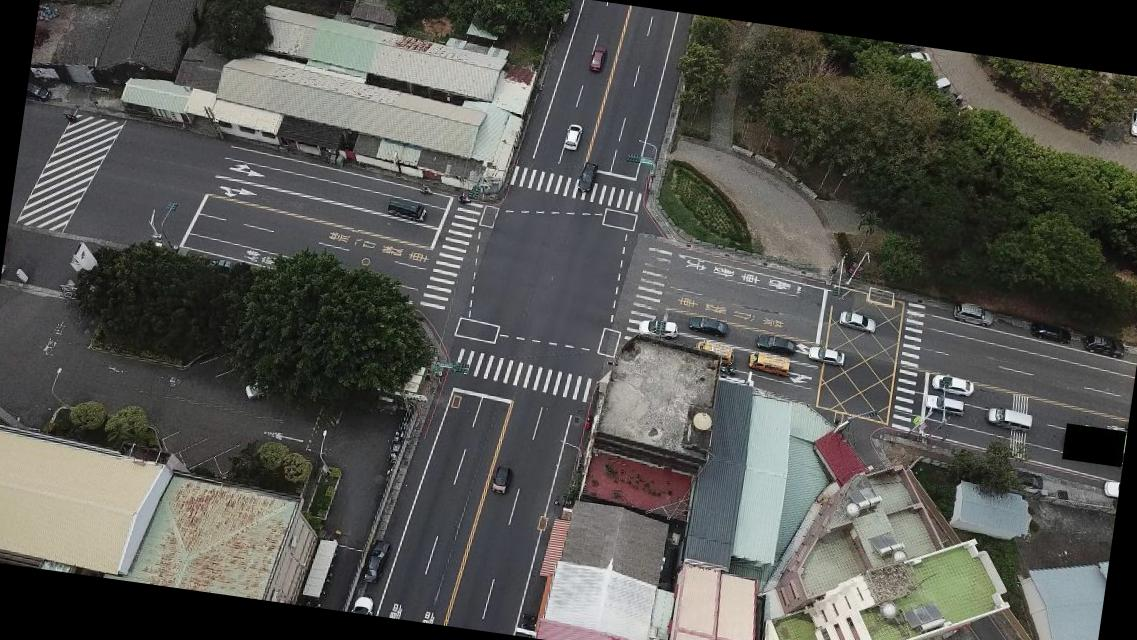vehicle: (362, 537, 393, 586), (383, 197, 428, 224), (748, 349, 792, 376), (952, 301, 996, 327), (693, 338, 737, 364), (985, 407, 1032, 431), (1029, 322, 1075, 346), (931, 372, 976, 396), (896, 46, 935, 72), (1084, 334, 1126, 358), (688, 314, 730, 338), (638, 316, 680, 339), (755, 332, 798, 354), (925, 394, 967, 416), (838, 311, 878, 334), (806, 346, 846, 368), (576, 159, 598, 193), (562, 122, 584, 153), (588, 42, 609, 74), (490, 464, 511, 495), (352, 592, 376, 615), (25, 82, 52, 102), (1101, 479, 1119, 498), (1130, 104, 1136, 139)
